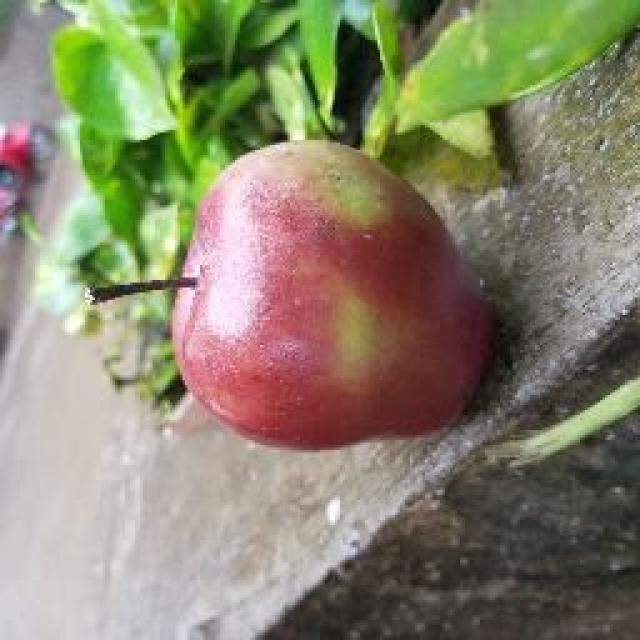Good_Apple: (170, 140, 498, 455)
